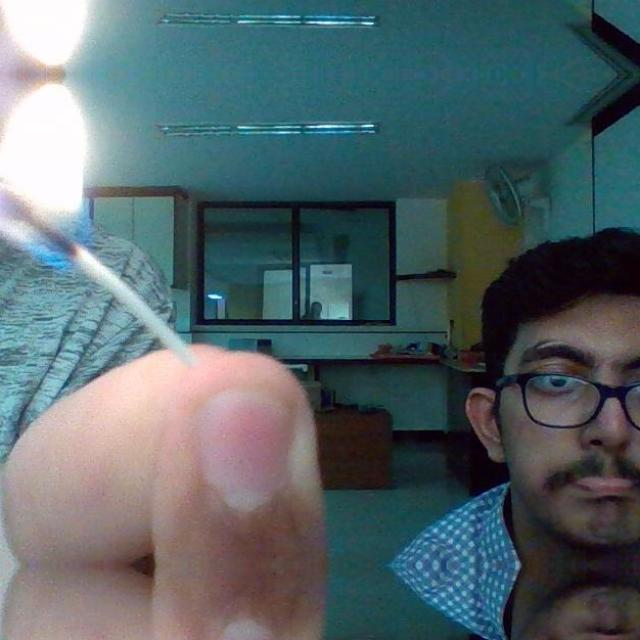smoke: (0, 87, 93, 273), (0, 0, 93, 62)
